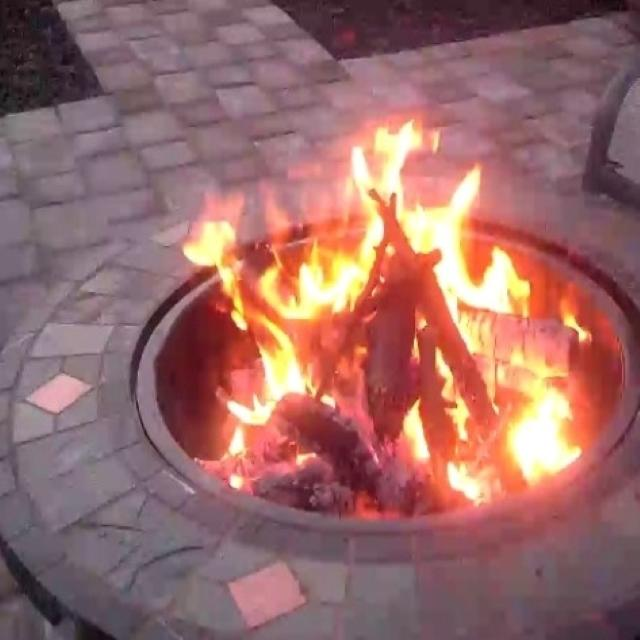Fire: (177, 115, 588, 505)
